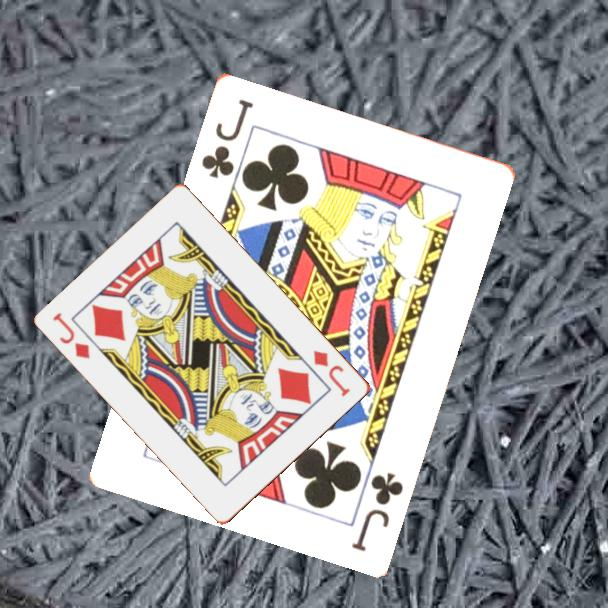c11: (197, 95, 256, 181), (347, 468, 406, 554)
d11: (50, 309, 94, 362), (310, 346, 353, 400)
